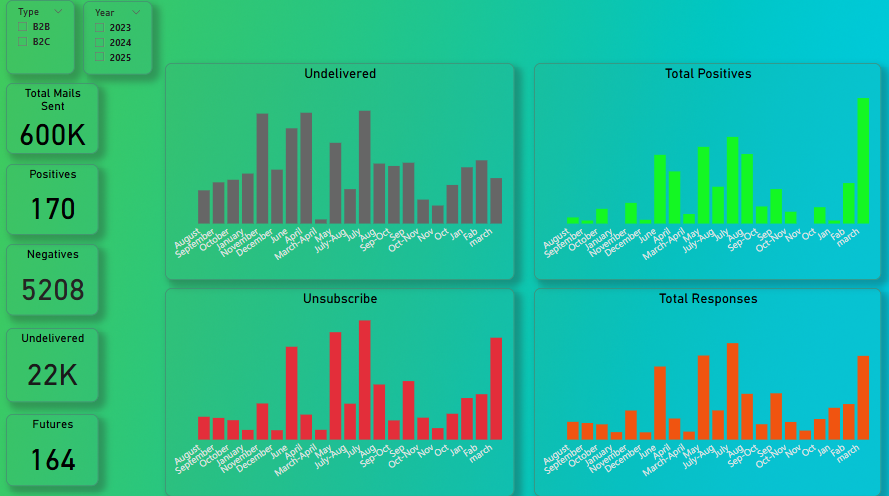

What the dashboard file says about the page in this screenshot:
{"tool":"powerbi","page":{"name":"Main","canvas":[1280,720],"ordinal":0},"visuals":[{"type":"slicer","fields":{"Values":["DATA.Type"]},"box":[9.9,0,97.8,106.3],"z":0},{"type":"slicer","fields":{"Values":["DATA.Year"]},"box":[120.5,1.4,99.2,104.9],"z":1000},{"type":"card","title":"Total Mails Sent","fields":{"Values":["Sum(DATA.Total Mail Sent)"]},"box":[9.9,119.1,131.8,100.6],"z":2000},{"type":"card","title":"Positives","fields":{"Values":["Sum(DATA.Positive )"]},"box":[9.9,233.9,131.8,100.6],"z":3000},{"type":"card","title":"Negatives","fields":{"Values":["Sum(DATA.Unsubscribe)"]},"box":[9.9,348.7,131.8,102],"z":4000},{"type":"card","title":"Undelivered","fields":{"Values":["Sum(DATA.Undelivered)"]},"box":[9.9,469.1,131.8,106.3],"z":5000},{"type":"card","title":"Futures","fields":{"Values":["Sum(DATA.FUTURE)"]},"box":[9.9,591,131.8,103.5],"z":6000},{"type":"columnChart","title":"Undelivered","fields":{"Category":["DATA.Month-Campaign"],"Y":["Sum(DATA.Undelivered %)"]},"box":[236.7,89.3,498.9,310.4],"z":7000},{"type":"columnChart","title":"Total Positives","fields":{"Category":["DATA.Month-Campaign"],"Y":["Sum(DATA.Positive %)"]},"box":[763.9,89.3,496.1,310.4],"z":8000},{"type":"columnChart","title":"Unsubscribe","fields":{"Category":["DATA.Month-Campaign"],"Y":["Sum(DATA.Unsubscribe %)"]},"box":[236.7,411,498.9,297.6],"z":9000},{"type":"columnChart","title":"Total Responses","fields":{"Category":["DATA.Month-Campaign"],"Y":["Sum(DATA.Total Resp %)"]},"box":[763.9,411,496.1,297.6],"z":10000}]}

Visuals, with their boxes in screenshot pixels (x1, y1, x2, y2), scaled from the page's 1280x720 canvas onto the 889x496 screenshot:
slicer - DATA.Type: (x1=7, y1=0, x2=75, y2=73)
slicer - DATA.Year: (x1=84, y1=1, x2=153, y2=73)
"Total Mails Sent" card: (x1=7, y1=82, x2=98, y2=151)
"Positives" card: (x1=7, y1=161, x2=98, y2=230)
"Negatives" card: (x1=7, y1=240, x2=98, y2=310)
"Undelivered" card: (x1=7, y1=323, x2=98, y2=396)
"Futures" card: (x1=7, y1=407, x2=98, y2=478)
"Undelivered" columnChart: (x1=164, y1=62, x2=511, y2=275)
"Total Positives" columnChart: (x1=531, y1=62, x2=875, y2=275)
"Unsubscribe" columnChart: (x1=164, y1=283, x2=511, y2=488)
"Total Responses" columnChart: (x1=531, y1=283, x2=875, y2=488)
